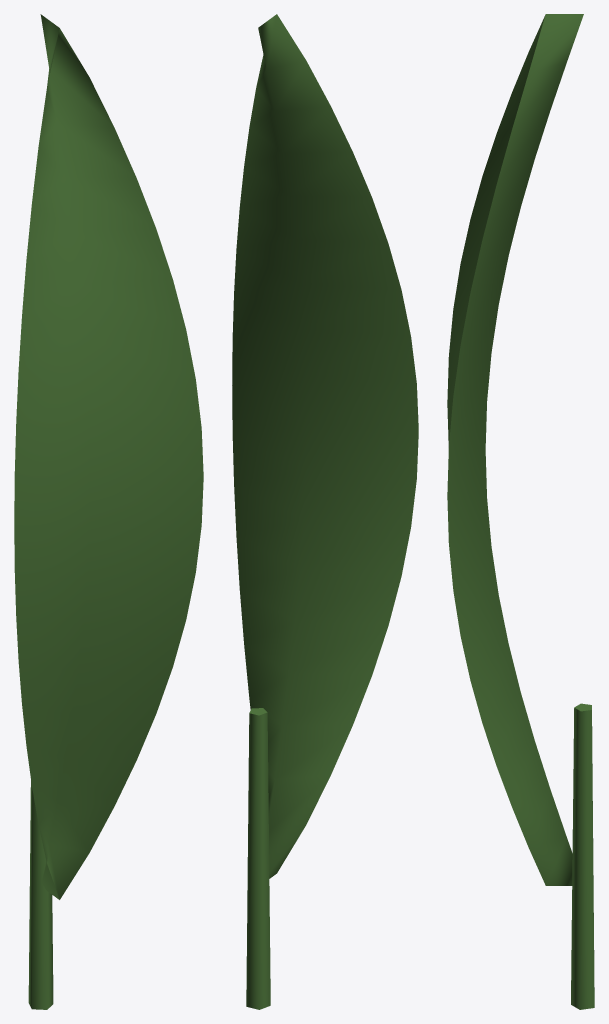
The model's file is leaf-narrow.glb.
3 renders of one model, left to right at view 1: azimuth 30°, elevation 25°; view 2: azimuth 150°, elevation 25°; view 3: azimuth 270°, elevation 25°, orthographic.
Parts seen in each view (by area): view 1: tint-leaf, tint-petiole; view 2: tint-leaf, tint-petiole; view 3: tint-leaf, tint-petiole.
Part boxes in pixels (left/top/right/bottom): tint-leaf: left=14, top=14, right=203, bottom=899; tint-petiole: left=28, top=781, right=53, bottom=1009; tint-leaf: left=232, top=14, right=418, bottom=878; tint-petiole: left=246, top=708, right=270, bottom=1009; tint-leaf: left=447, top=14, right=583, bottom=885; tint-petiole: left=571, top=703, right=594, bottom=1009.
Size of the model in its own units: 0.2 by 1 by 0.1347.
